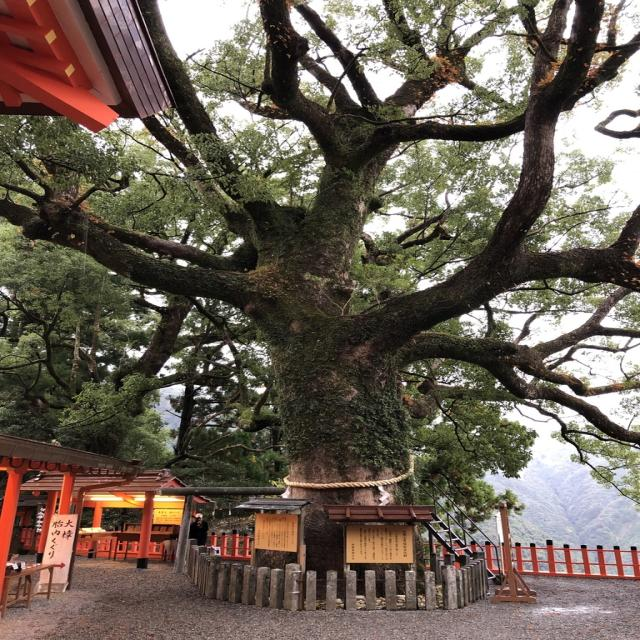camphor: (0, 0, 640, 508)
